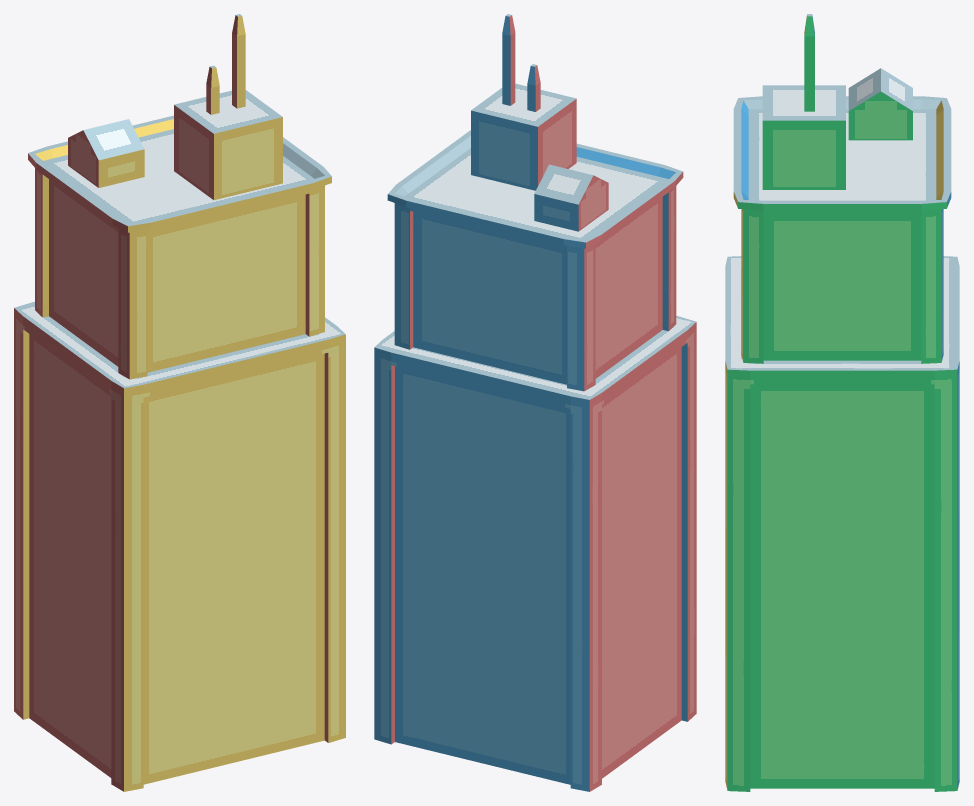
Rendered from tall_building.gltf.
The picture shows the model from 3 angles, left to right: view 1: azimuth 30°, elevation 25°; view 2: azimuth 150°, elevation 25°; view 3: azimuth 270°, elevation 25°; orthographic projection. The views are drawn at different scales.
Parts seen in each view (by area): view 1: cuboid; view 2: cuboid; view 3: cuboid.
Part boxes in pixels (x1,y1,x2,y2): cuboid: (14,14,345,791); cuboid: (374,14,696,791); cuboid: (725,14,959,791).
Size of the model in its own units: 1.63 by 4.91 by 1.41.
1 material, 1 textured.
